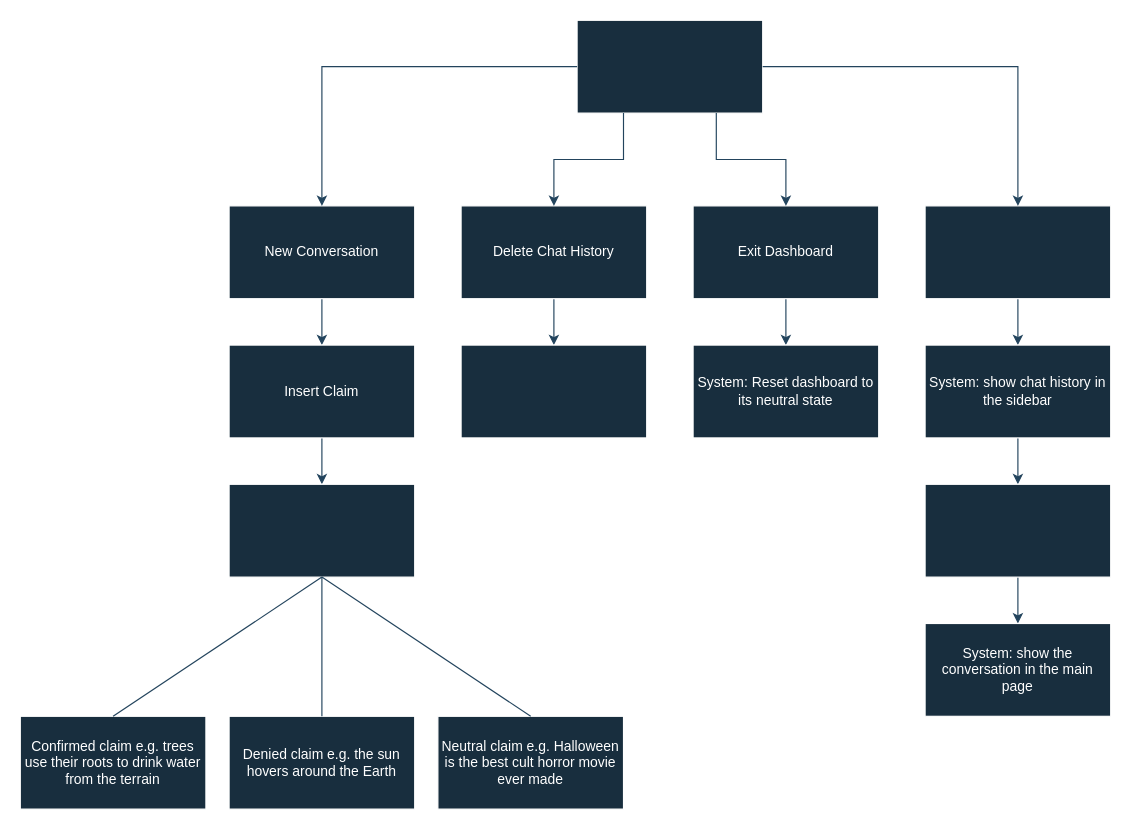
Image size: 1131x829. Some labels were removed from this diagram. The centre of each missing label's shape, as x and y in pixels:
"Is chat history not empty? If Yes" belongs at (x=1017, y=252).
"System Start" belongs at (x=669, y=66).
"System: Chat History is deleted" belongs at (x=553, y=391).
"System: Creation of answer 3 possible answer categories" belongs at (x=321, y=530).
"User: select a conversation from the history" belongs at (x=1017, y=530).
